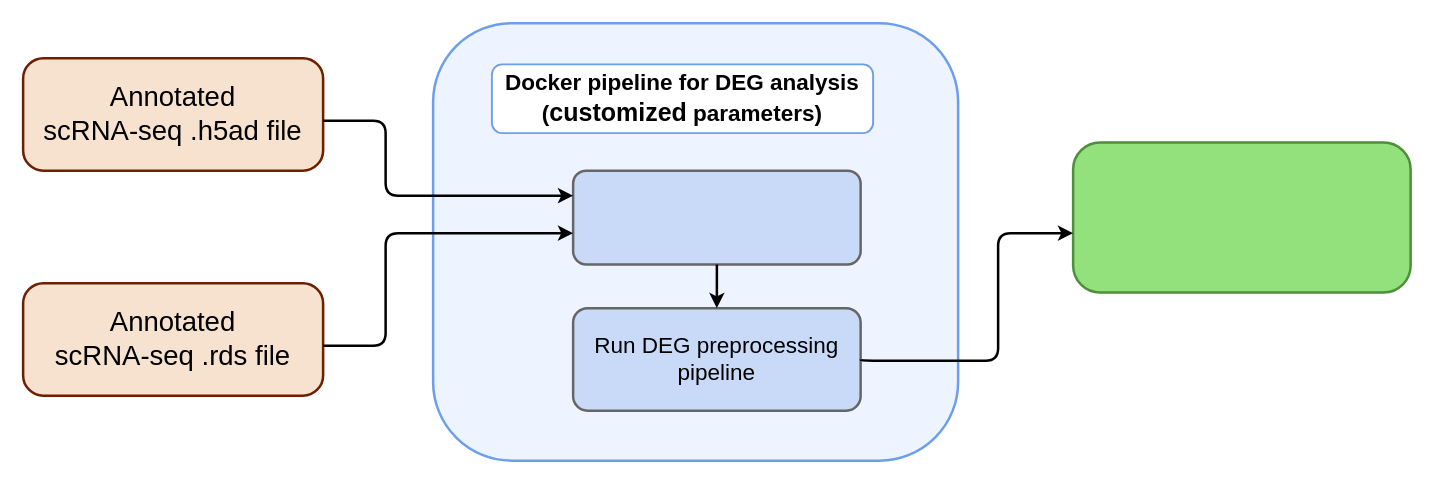
This 1433x483 diagram has some shape labels left out. Each missing label, with the centre of its shape:
h5ad file with DEG information ready for DiVenn2 input: (x=1241, y=217)
Install Docker & Download pipeline from Docker Hub: (x=716, y=217)
